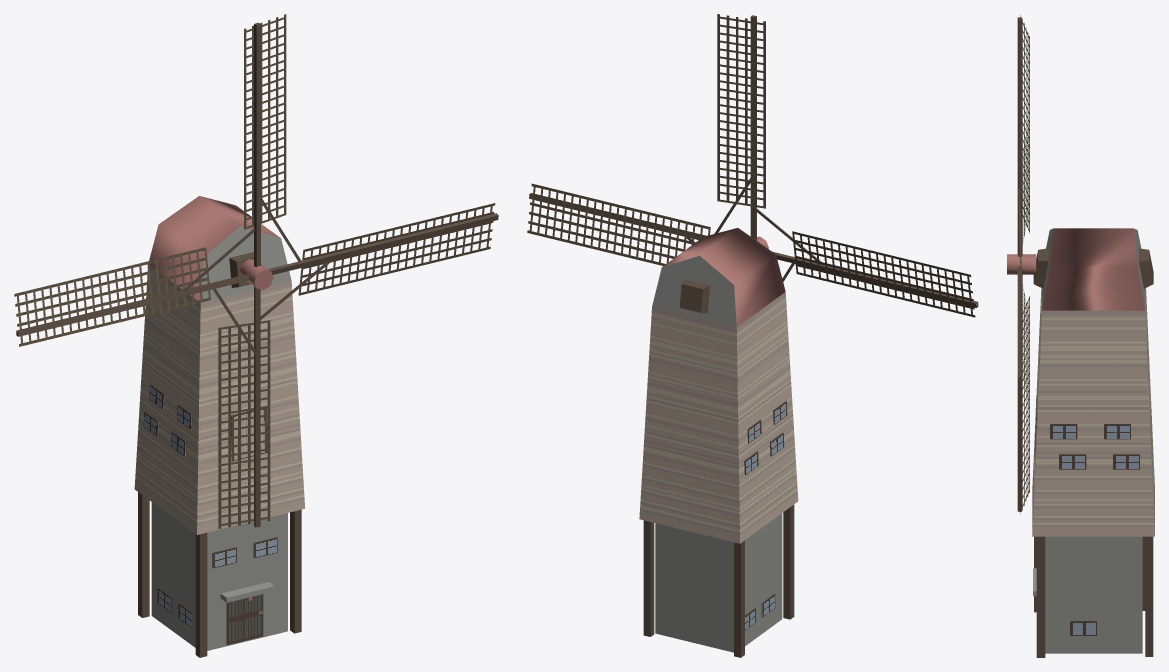
Rendered from 00c6_Windmill.glb.
3 views of the same model, side by side, from view 1: azimuth 30°, elevation 25°; view 2: azimuth 150°, elevation 25°; view 3: azimuth 270°, elevation 25° (orthographic). The views are drawn at different scales.
Parts seen in each view (by area): view 1: part_0, part_1; view 2: part_0, part_1; view 3: part_0, part_1.
Boxes of the visible parts, x1=… form: part_0: x1=134, y1=196, x2=304, y2=657; part_1: x1=14, y1=14, x2=498, y2=528; part_0: x1=639, y1=228, x2=798, y2=657; part_1: x1=527, y1=14, x2=978, y2=317; part_0: x1=1032, y1=228, x2=1154, y2=657; part_1: x1=1007, y1=15, x2=1036, y2=513.
Size of the model in its own units: 20 by 24.97 by 5.44.
2 materials, 2 textured.
